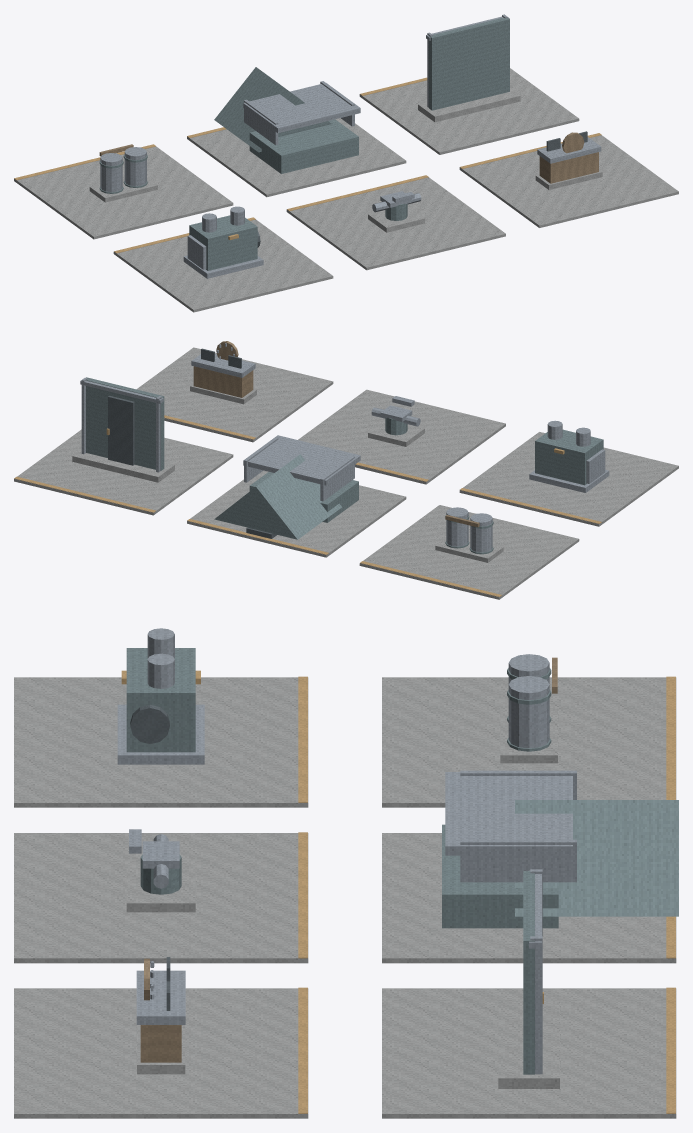
The model's file is level_blockout_kit_wld_15_p04.glb.
The picture shows the model from 3 angles, top to bottom: view 1: azimuth 30°, elevation 25°; view 2: azimuth 150°, elevation 25°; view 3: azimuth 270°, elevation 25°; orthographic projection. The views are drawn at different scales.
Parts seen in each view (by area): view 1: level_blockout_kit_wld_15_p04; view 2: level_blockout_kit_wld_15_p04; view 3: level_blockout_kit_wld_15_p04.
Part boxes in pixels (<box>): level_blockout_kit_wld_15_p04: <box>14,14,678,312</box>; level_blockout_kit_wld_15_p04: <box>14,341,678,599</box>; level_blockout_kit_wld_15_p04: <box>14,628,678,1118</box>.
Size of the model in its own units: 19.65 by 3.19 by 12.65.
Materials: 6 (6 with a texture image).
